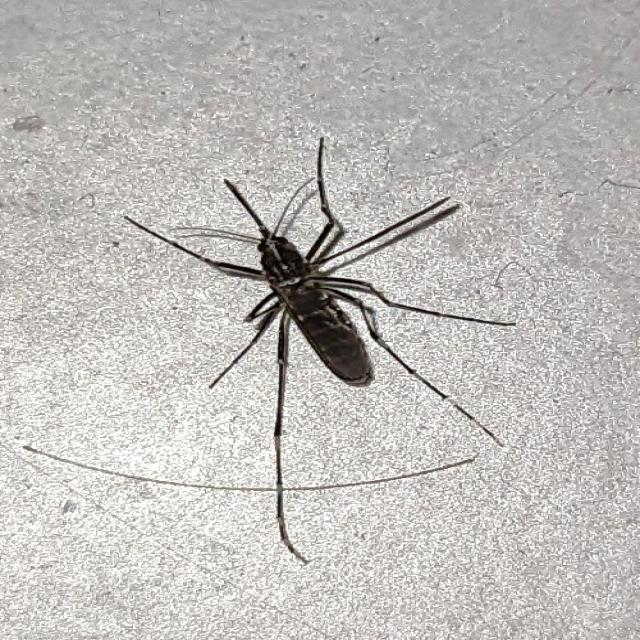albopictus: (101, 126, 524, 570)
